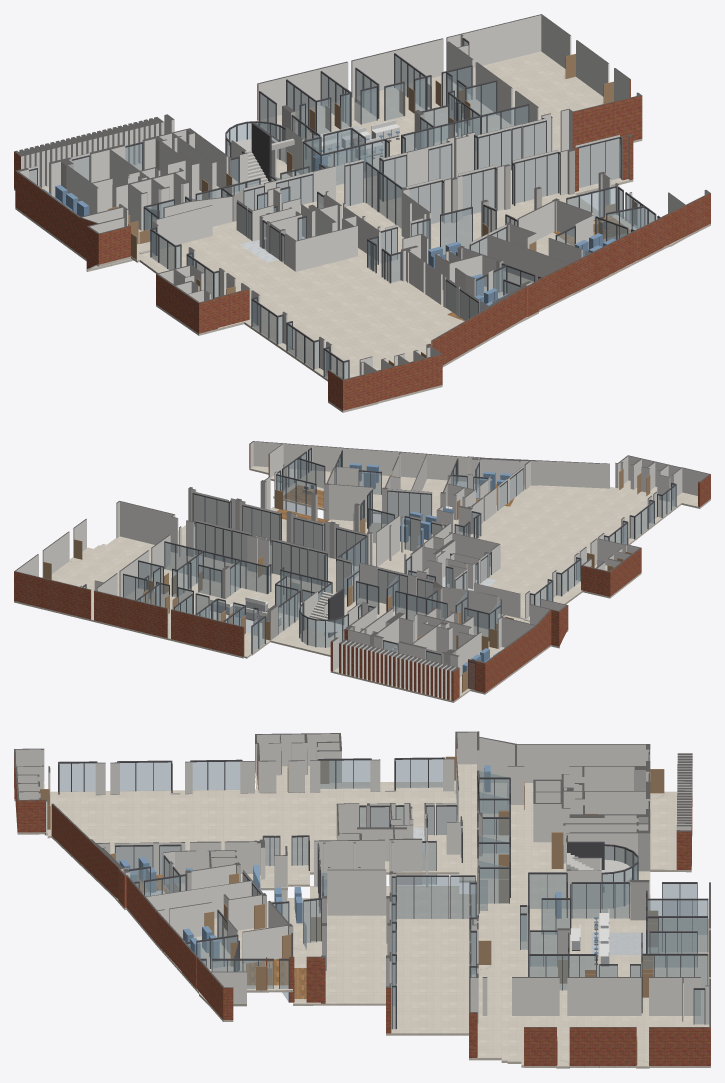
The model's file is floor-0.glb.
The picture shows the model from 3 angles, top to bottom: view 1: azimuth 30°, elevation 25°; view 2: azimuth 150°, elevation 25°; view 3: azimuth 270°, elevation 25°; orthographic projection. The views are drawn at different scales.
Visible parts, largest first — view 1: P0_Walls, P0_Floor_Slab, P0_Glass, P0_Glass_Mullions, P0_Glass_Frames_Top, P0_Columns, P0_Doors, P0_Stair_A_East, P0_Furniture_2_3, P0_Floor_Zones; view 2: P0_Walls, P0_Floor_Slab, P0_Glass, P0_Glass_Mullions, P0_Glass_Frames_Top, P0_Doors, P0_Columns, P0_Floor_Zones, P0_Stair_A_East, P0_Furniture_2_3, P0_Furniture_2_1, P0_Furniture_3_1; view 3: P0_Walls, P0_Floor_Slab, P0_Glass, P0_Glass_Mullions, P0_Doors, P0_Glass_Frames_Top, P0_Columns, P0_Floor_Zones, P0_Stair_A_East, P0_Furniture_2_3, P0_Furniture_2_1, P0_Furniture_3_1.
Part boxes in pixels (x1,y1,x2,y2): P0_Walls: (14,14,710,410); P0_Floor_Slab: (14,51,710,412); P0_Glass: (29,40,658,378); P0_Glass_Mullions: (37,38,658,379); P0_Glass_Frames_Top: (29,38,660,362); P0_Columns: (59,105,633,292); P0_Doors: (108,54,637,366); P0_Stair_A_East: (227,122,294,187); P0_Furniture_2_3: (311,127,383,170); P0_Floor_Zones: (239,126,630,321); P0_Walls: (14,441,710,700); P0_Floor_Slab: (14,466,710,702); P0_Glass: (84,450,675,689); P0_Glass_Mullions: (85,447,676,690); P0_Glass_Frames_Top: (82,448,676,663); P0_Doors: (43,468,650,692); P0_Columns: (188,475,489,665); P0_Floor_Zones: (220,481,514,653); P0_Stair_A_East: (308,588,347,637); P0_Furniture_2_3: (234,597,306,625); P0_Furniture_2_1: (410,471,512,533); P0_Furniture_3_1: (349,463,378,489); P0_Walls: (14,731,710,1065); P0_Floor_Slab: (14,764,710,1068); P0_Glass: (59,759,707,1029); P0_Glass_Mullions: (58,757,708,1029); P0_Doors: (40,747,664,1065); P0_Glass_Frames_Top: (58,752,707,989); P0_Columns: (185,766,650,1033); P0_Floor_Zones: (137,828,645,998); P0_Stair_A_East: (567,841,631,891); P0_Furniture_2_3: (555,892,609,950); P0_Furniture_2_1: (119,857,260,892); P0_Furniture_3_1: (183,926,219,961).
Bounding box in the file's own units: 54.72 × 4.6 × 55.67.
Materials: 21 (5 with a texture image).
